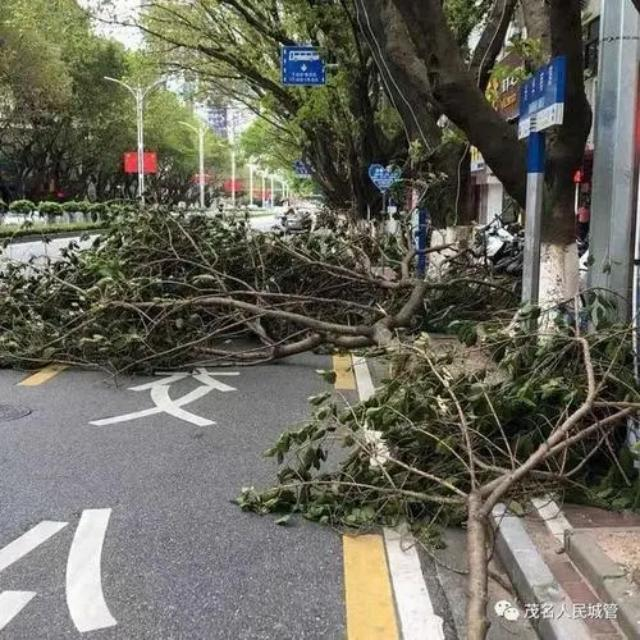fallen_tree: (255, 304, 640, 640), (1, 205, 515, 371)
